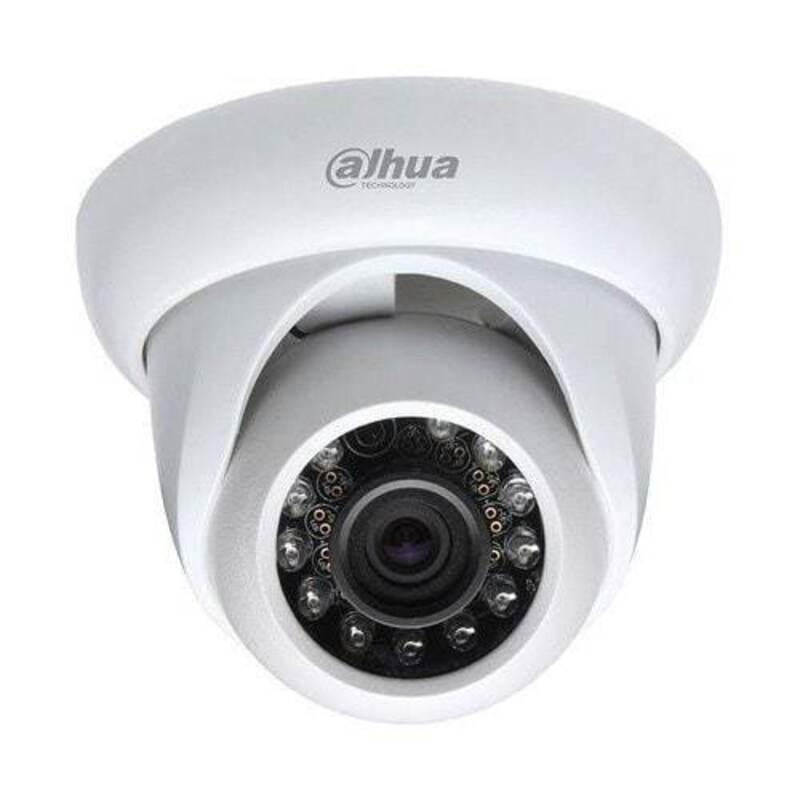turret: (59, 83, 738, 735)
